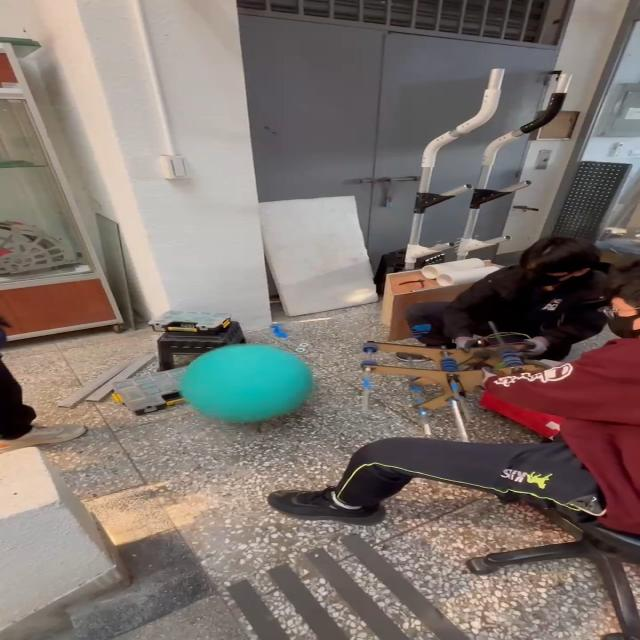ALGAE: (176, 342, 315, 424)
